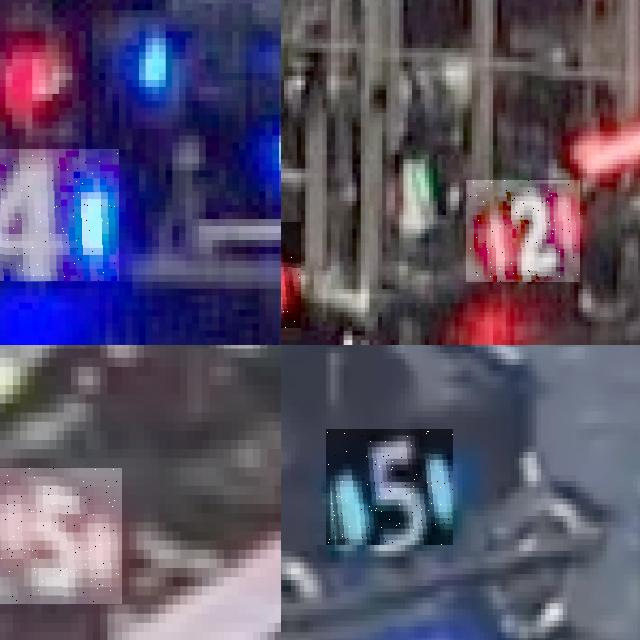B4: (0, 149, 118, 281)
B5: (326, 429, 453, 545)
R2: (466, 180, 580, 282)
R5: (0, 467, 122, 604)
